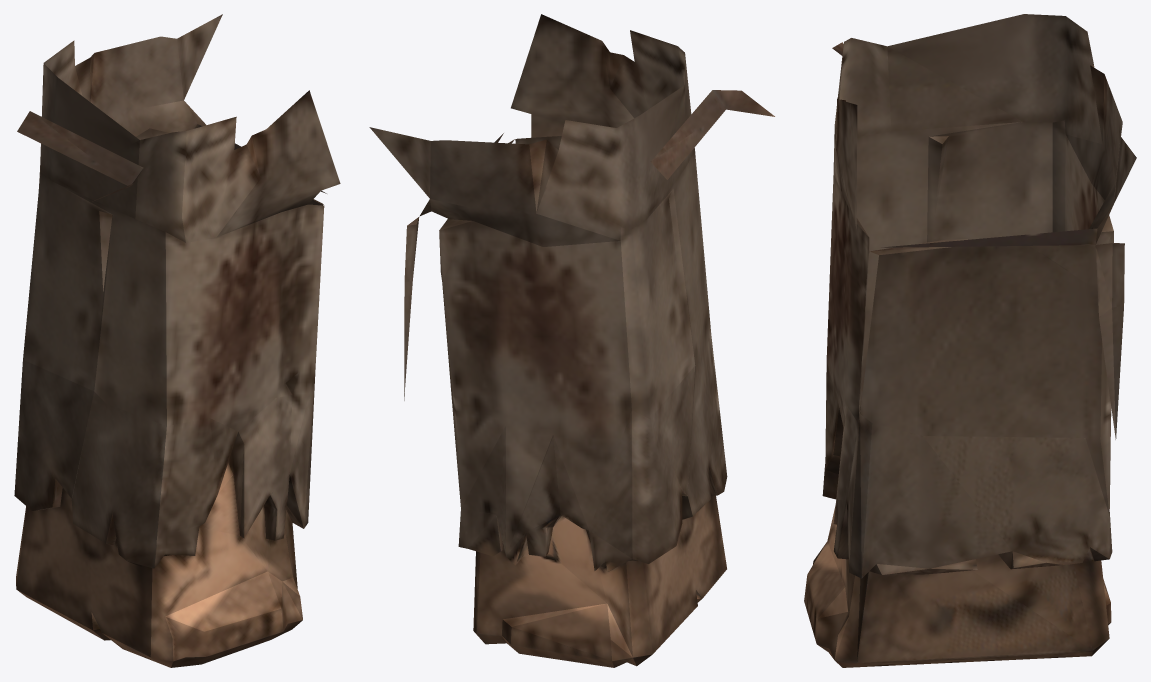
File: patient_legNeg.glb
3 renders of one model, left to right at view 1: azimuth 30°, elevation 25°; view 2: azimuth 150°, elevation 25°; view 3: azimuth 270°, elevation 25°, orthographic. The views are drawn at different scales.
Visible parts, largest first — view 1: legNeg; view 2: legNeg; view 3: legNeg.
Part boxes in pixels (box(x1,y1,x2,y2)): legNeg: box(14, 14, 340, 667); legNeg: box(369, 14, 774, 667); legNeg: box(804, 14, 1136, 667).
Bounding box in the file's own units: 0.3874 × 0.7431 × 0.3841.
1 material, 1 textured.
